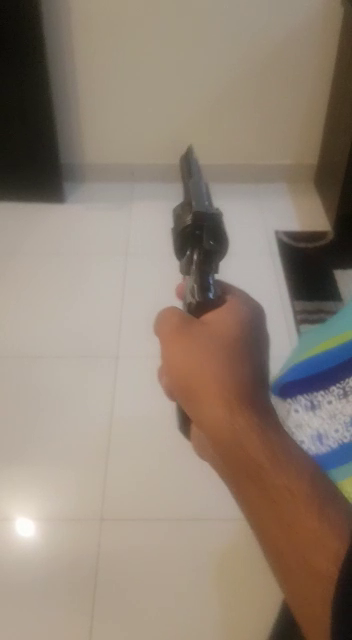handgun: (124, 126, 289, 487)
